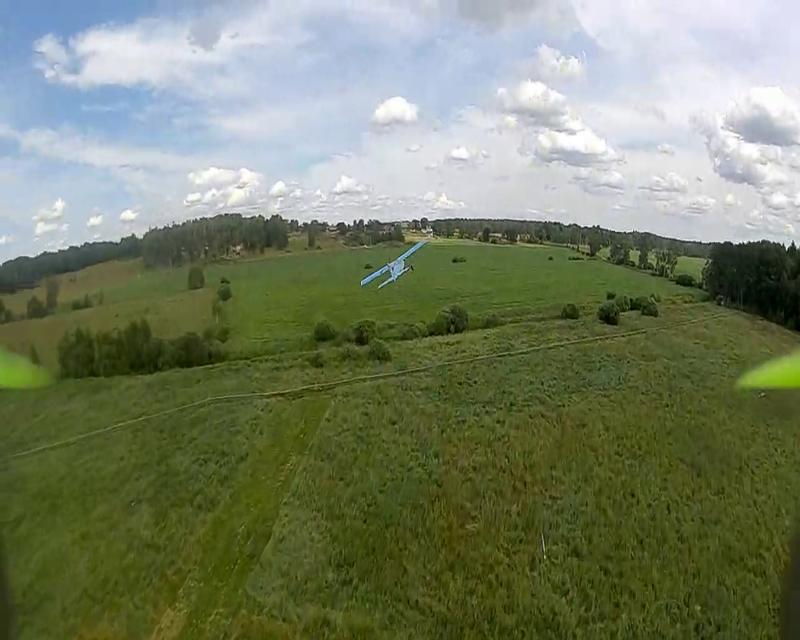UAV: (360, 239, 428, 290)
